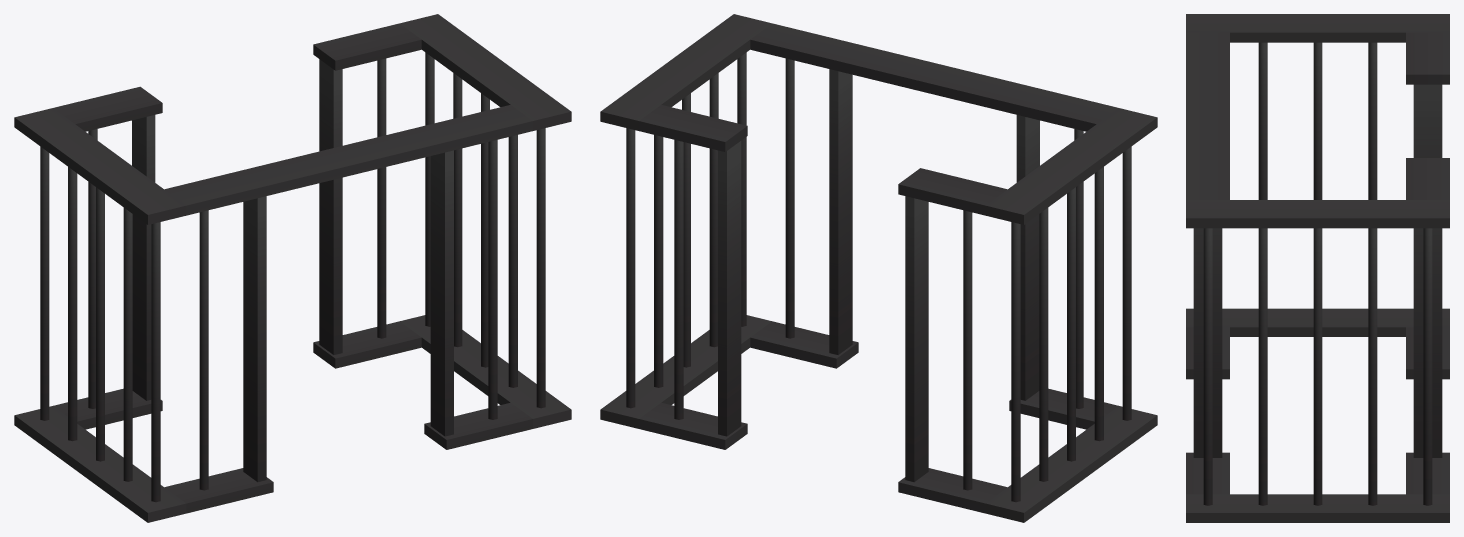
The model's file is cage_exit.fbx.
3 views of the same model, side by side, from view 1: azimuth 30°, elevation 25°; view 2: azimuth 150°, elevation 25°; view 3: azimuth 270°, elevation 25° (orthographic).
Visible parts, largest first — view 1: cage_exit; view 2: cage_exit; view 3: cage_exit.
Boxes of the visible parts, left/top/right/bottom form: cage_exit: left=14, top=14, right=571, bottom=522; cage_exit: left=600, top=14, right=1157, bottom=522; cage_exit: left=1186, top=14, right=1449, bottom=522.
Size of the model in its own units: 4.4 by 3.06 by 2.4.
Materials: 1 (1 with a texture image).
